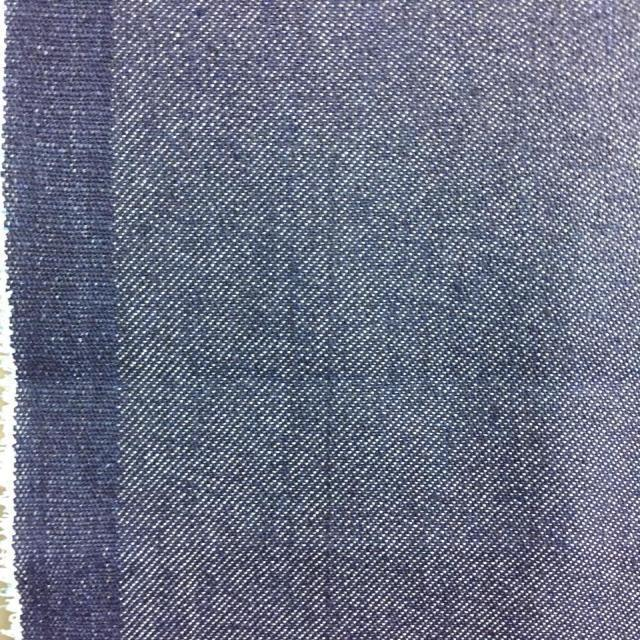Line: (318, 152, 338, 640), (279, 119, 294, 488)
